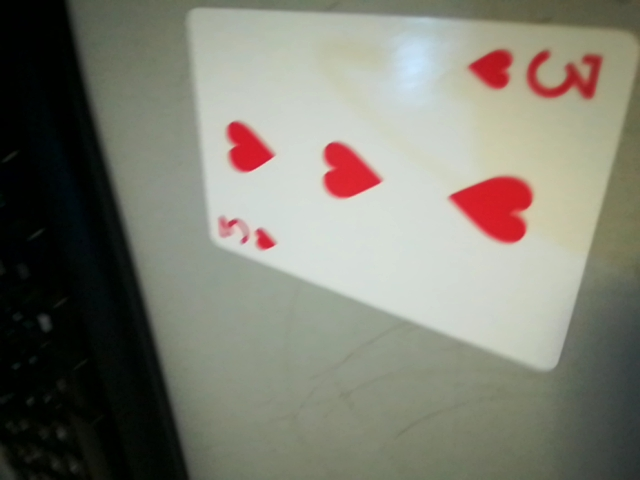hx 3: (467, 37, 618, 109)
